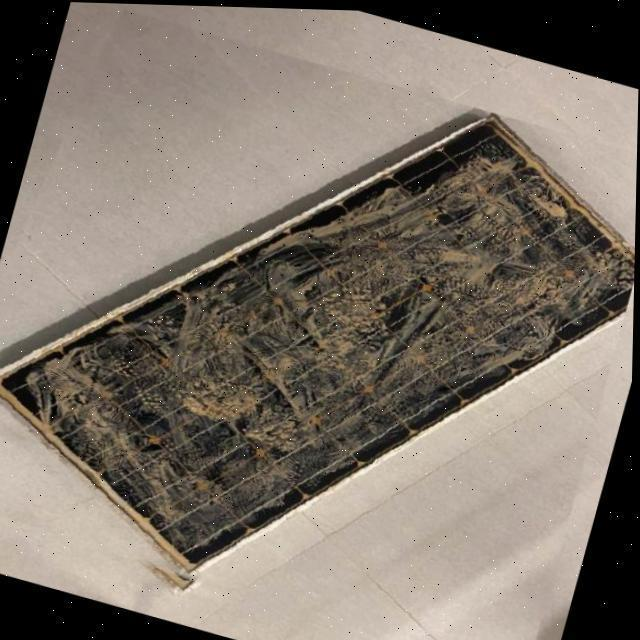Anomaly Solar Panel: (0, 114, 636, 565)
Surface Contaminant: (21, 142, 636, 557)
